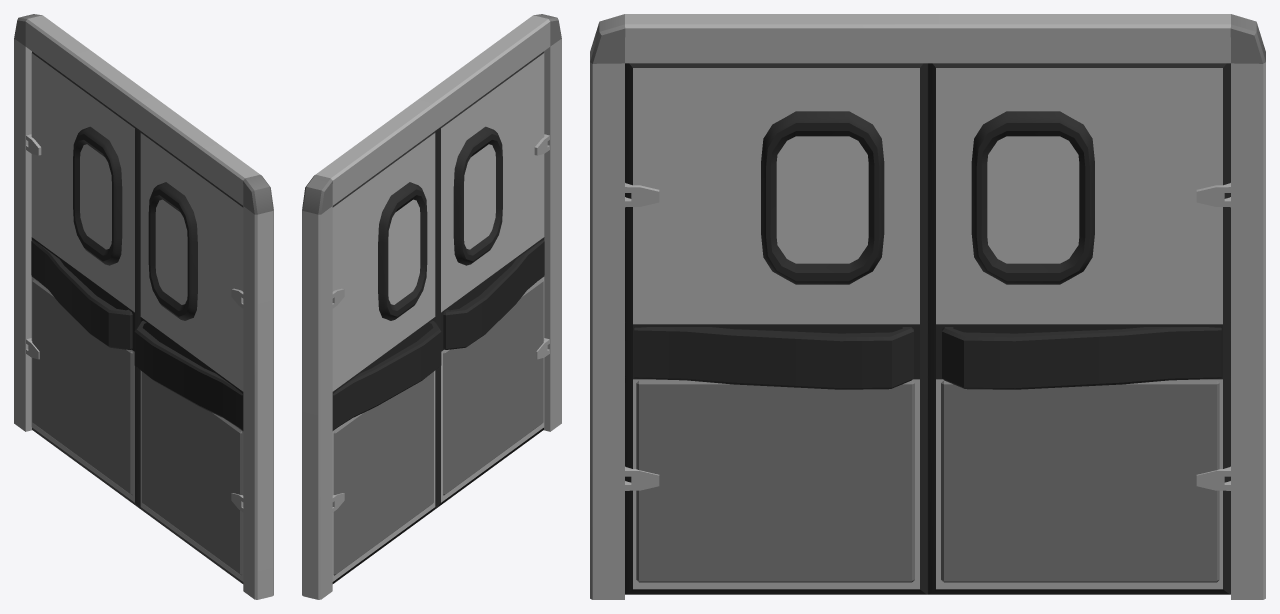
The model's file is Doors.fbx.
3 renders of one model, left to right at view 1: azimuth 30°, elevation 25°; view 2: azimuth 150°, elevation 25°; view 3: azimuth 270°, elevation 25°, orthographic. The views are drawn at different scales.
Parts seen in each view (by area): view 1: Doors; view 2: Doors; view 3: Doors.
Part boxes in pixels (left/top/right/bottom): Doors: left=14, top=14, right=273, bottom=599; Doors: left=302, top=14, right=561, bottom=599; Doors: left=590, top=14, right=1265, bottom=599.
Bounding box in the file's own units: 26.9 × 229 × 245.
